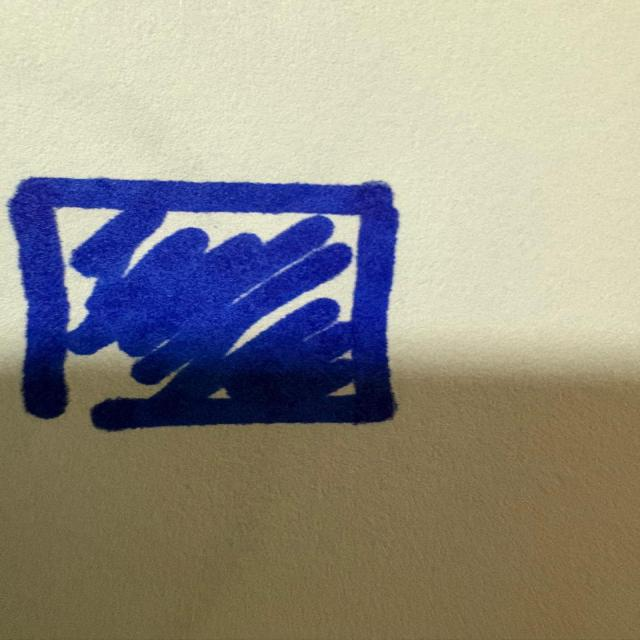Square: (4, 169, 437, 442)
